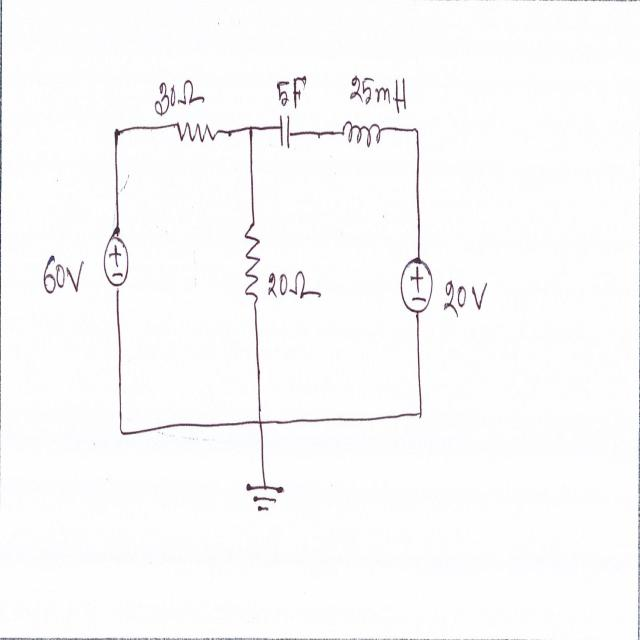capacitor: (276, 109, 294, 156)
ground: (240, 470, 289, 523)
inductor: (344, 117, 386, 156)
resistor: (176, 114, 225, 153), (243, 220, 263, 298)
voltage_source: (398, 255, 436, 321), (100, 229, 133, 291)
